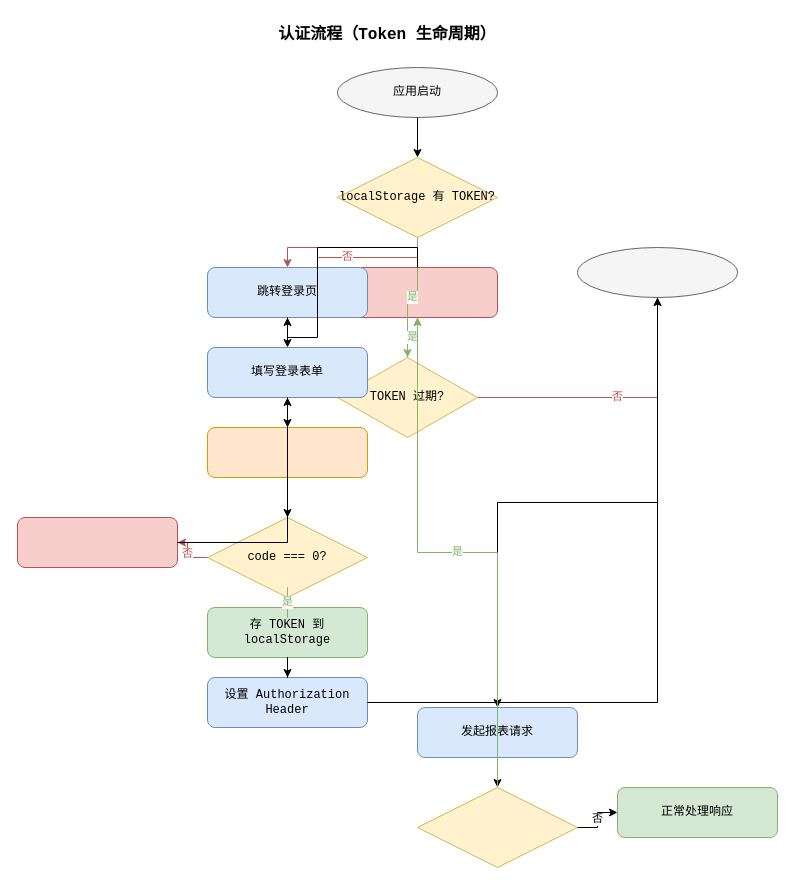
This 795x885 diagram has some shape labels left out. The box of each missing label's shape, as (x1, y1, x2, y2) in pixels:
HTTP 401?: (416, 786, 578, 868)
POST /SunReport/auth/login: (206, 426, 368, 478)
显示错误: (16, 516, 178, 568)
清除过期 TOKEN: (336, 266, 498, 318)
进入 Dashboard: (576, 246, 738, 298)
